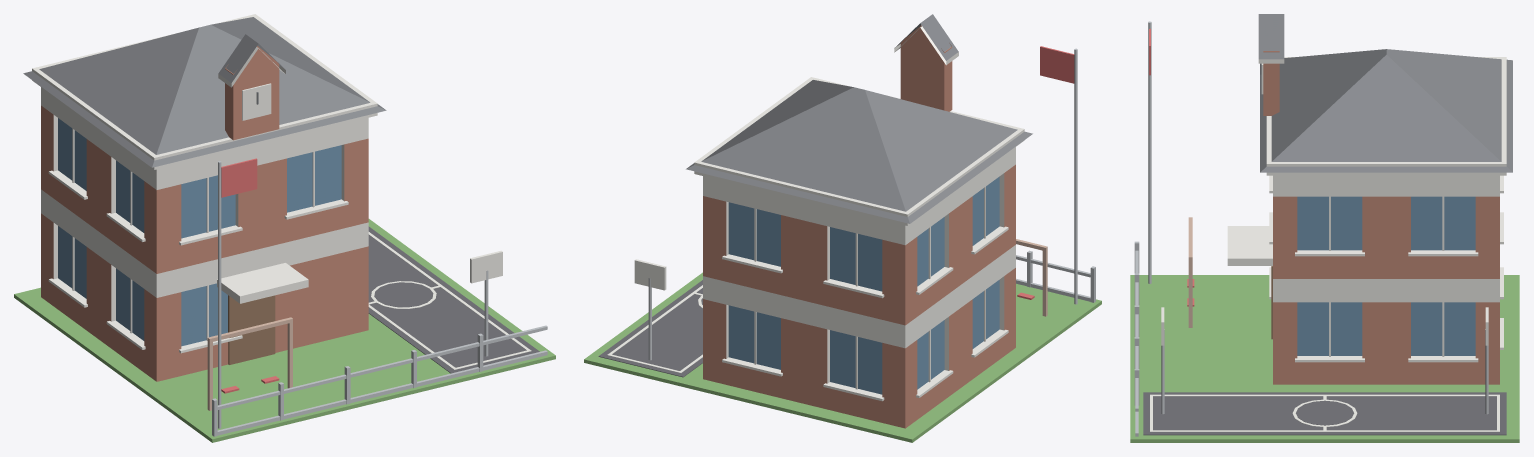
Rendered from school.glb.
3 views of the same model, side by side, from view 1: azimuth 30°, elevation 25°; view 2: azimuth 150°, elevation 25°; view 3: azimuth 270°, elevation 25° (orthographic). The views are drawn at different scales.
Parts seen in each view (by area): view 1: school; view 2: school; view 3: school.
Boxes of the visible parts, x1=… form: school: x1=14, y1=14, x2=555, y2=442; school: x1=584, y1=14, x2=1101, y2=442; school: x1=1130, y1=14, x2=1519, y2=442.
Size of the model in its own units: 12 by 10.82 by 12.
